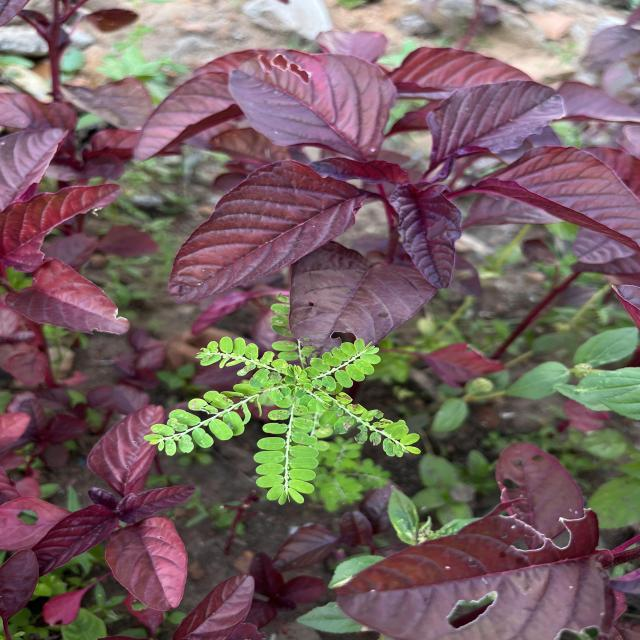Phyllanthus niruri: (252, 401, 322, 507), (317, 390, 423, 460), (142, 389, 251, 456), (195, 334, 293, 388), (304, 337, 384, 392)
